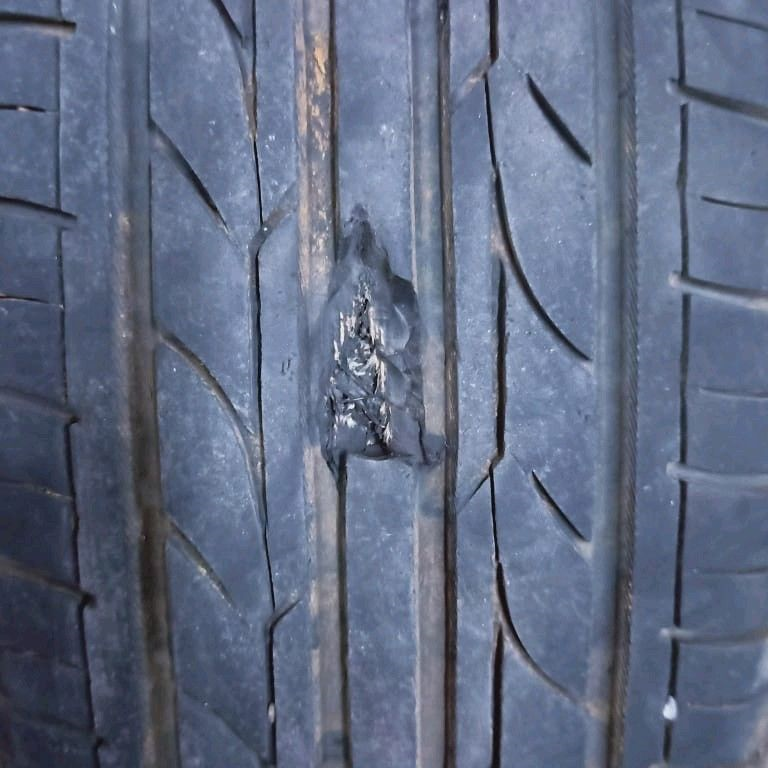tr: (315, 195, 453, 509)
